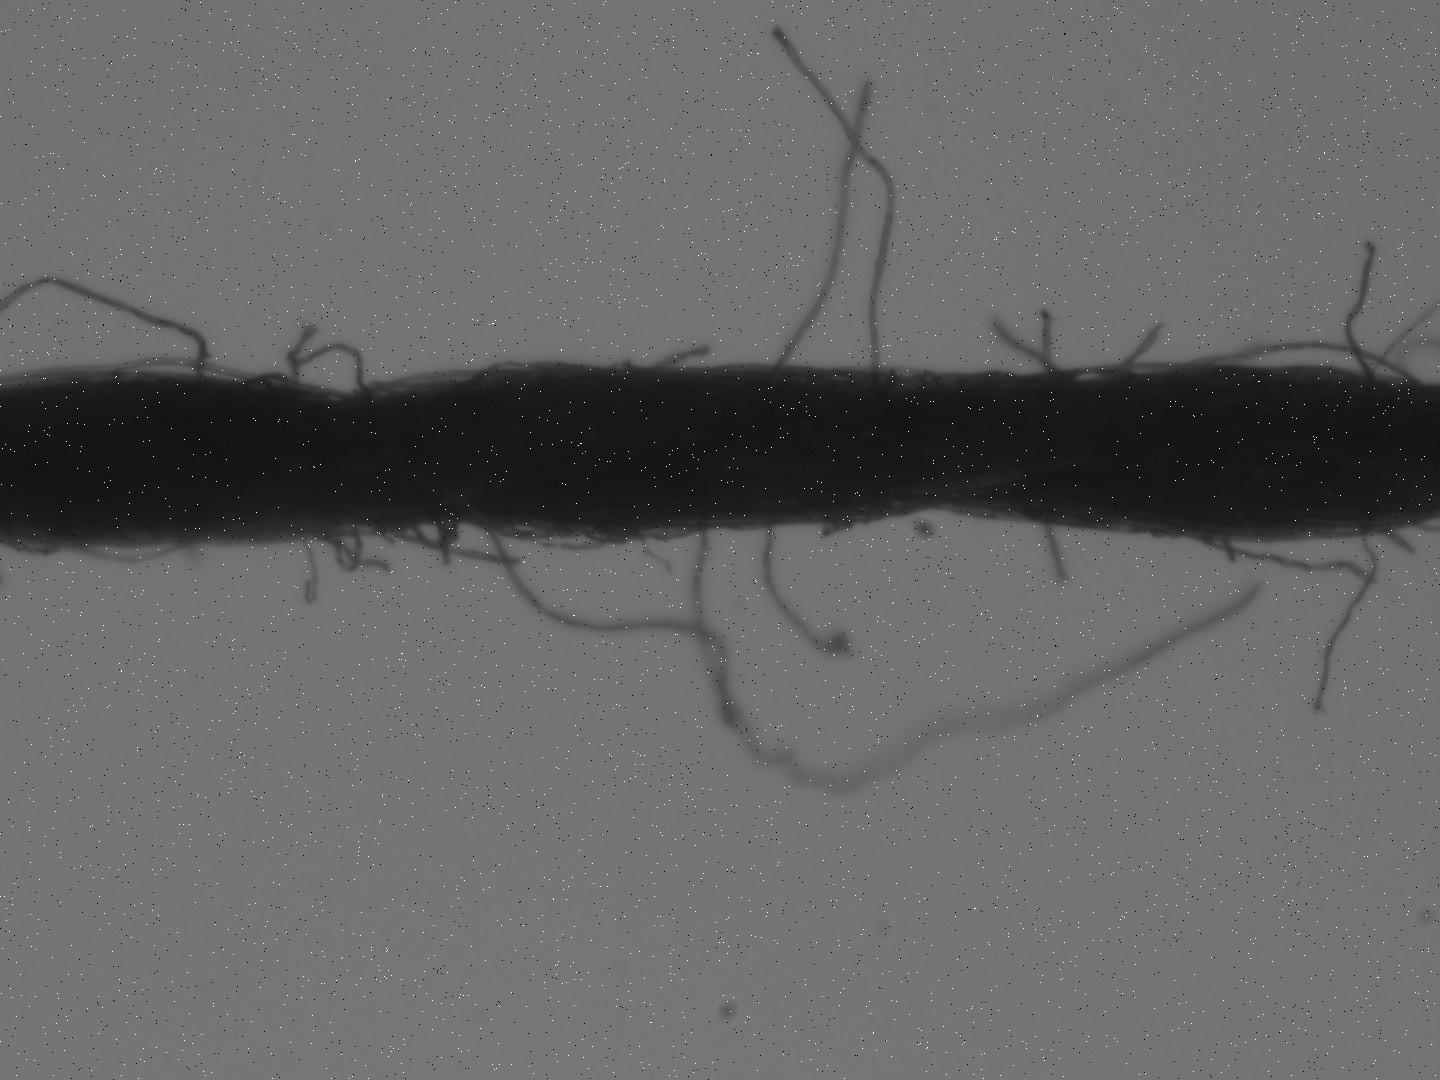loop_fiber: (1191, 338, 1414, 379), (475, 516, 641, 550), (239, 366, 347, 402), (53, 539, 195, 565), (327, 525, 364, 577), (405, 509, 455, 541), (473, 523, 582, 537)
protruding_fiber: (777, 20, 895, 370), (772, 76, 875, 368), (1315, 530, 1379, 714), (1345, 244, 1380, 381), (1118, 324, 1166, 372), (1040, 516, 1066, 580), (1039, 311, 1056, 377)
